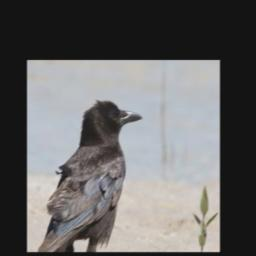Crow: (37, 98, 144, 252)
